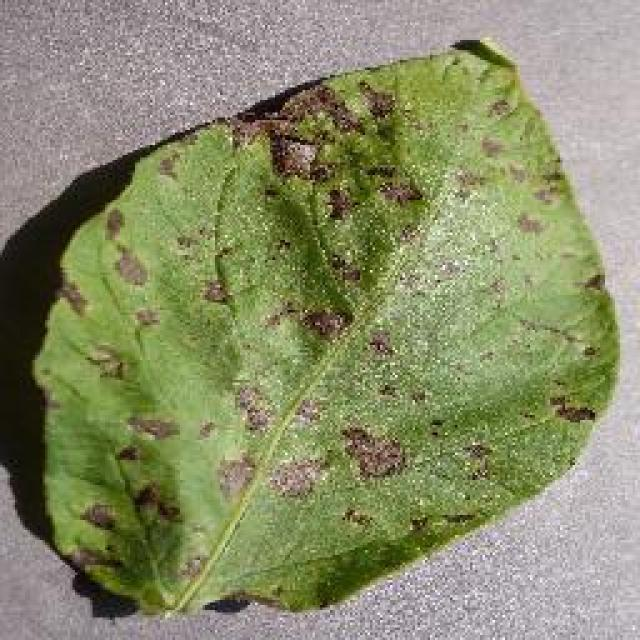early_blight: (25, 32, 625, 620)
